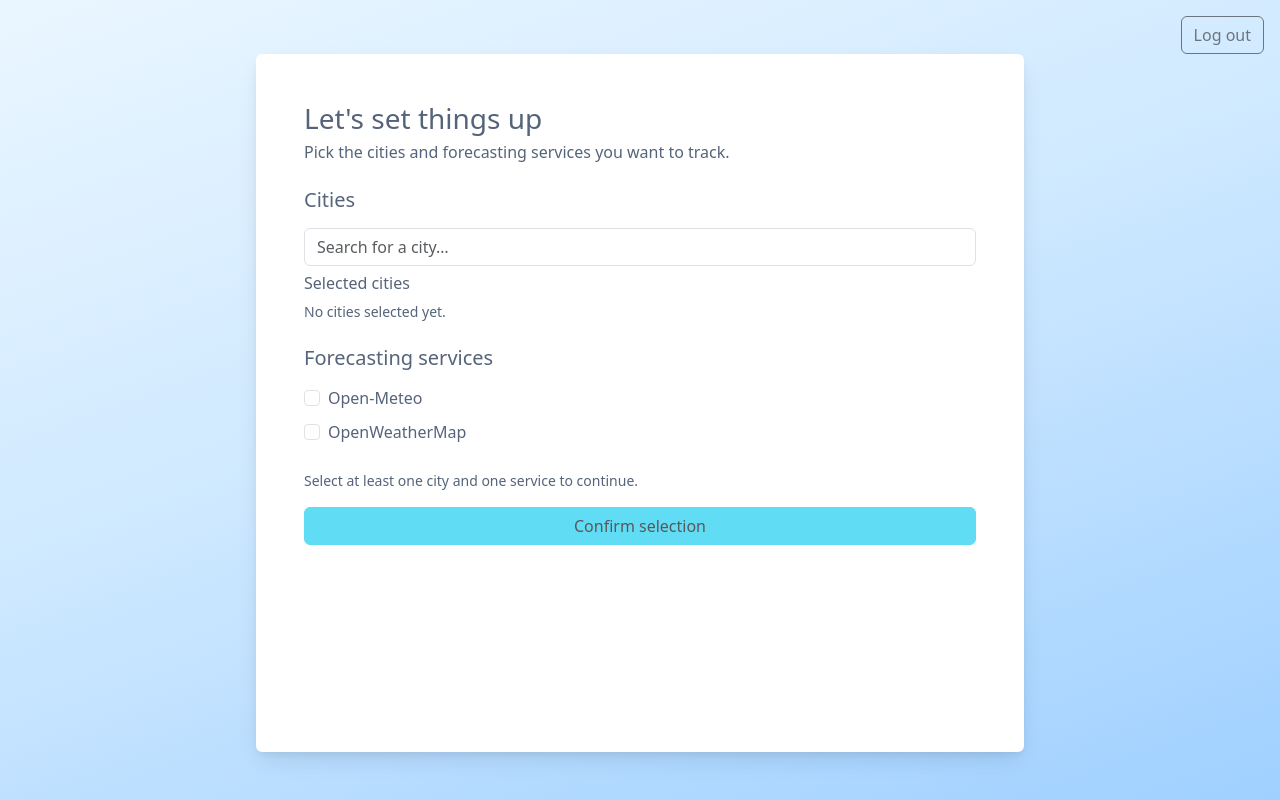
Test: SetupPage - City API down with no cities selected (services only) › enables confirm with only a service selected and saves it through saveServices
Check: the text "Open-Meteo" is shown, box [328,386,422,410]
Type "Athens" into the field labelled "Search for a city" at (640, 247), box [304,228,976,266]
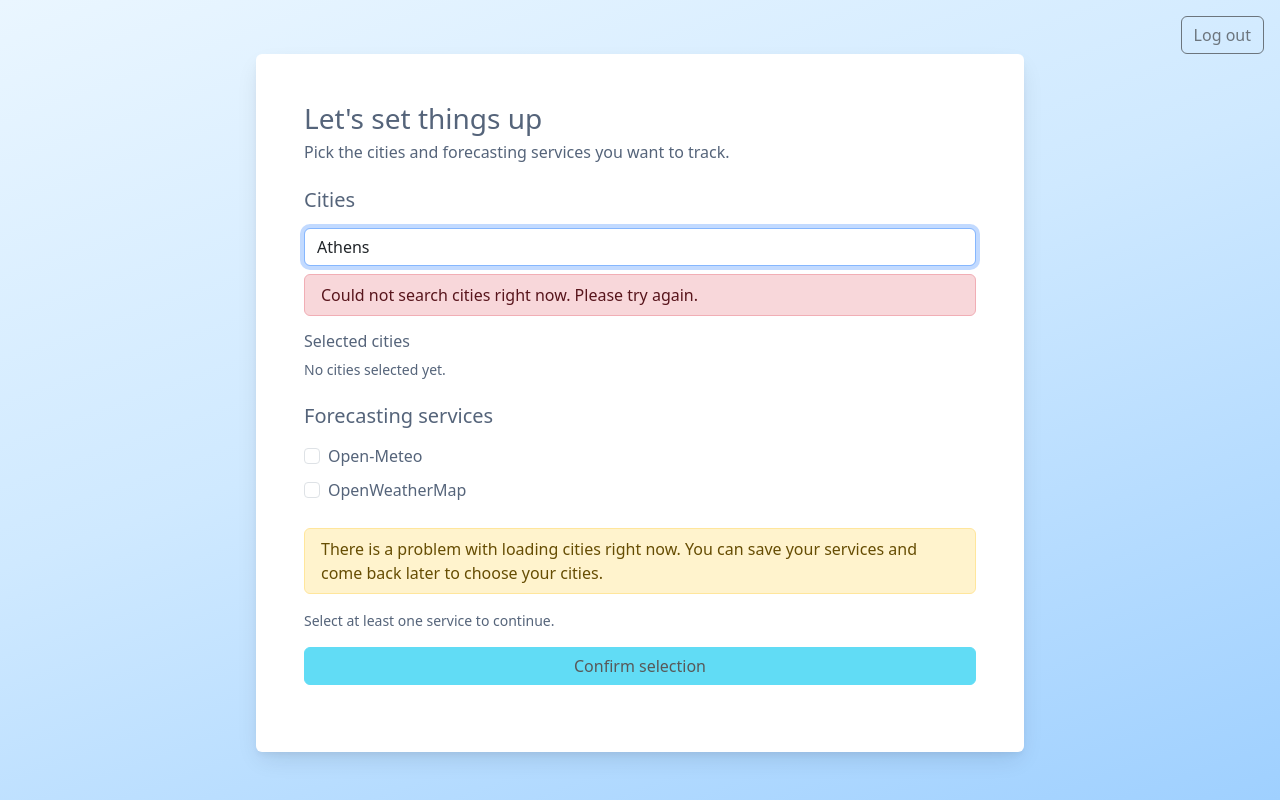
Check: the text "Could not search cities right now. Please try again." is shown, box [304,274,976,316]
Check: the text "Select at least one service to continue." is shown, box [304,611,554,630]
Check: the text "There is a problem with loading cities right now. You can save your services and come back later to choose your cities." is shown, box [321,538,917,584]
Click the checkbox labelled "Open-Meteo" at (312, 456), box [304,448,320,464]
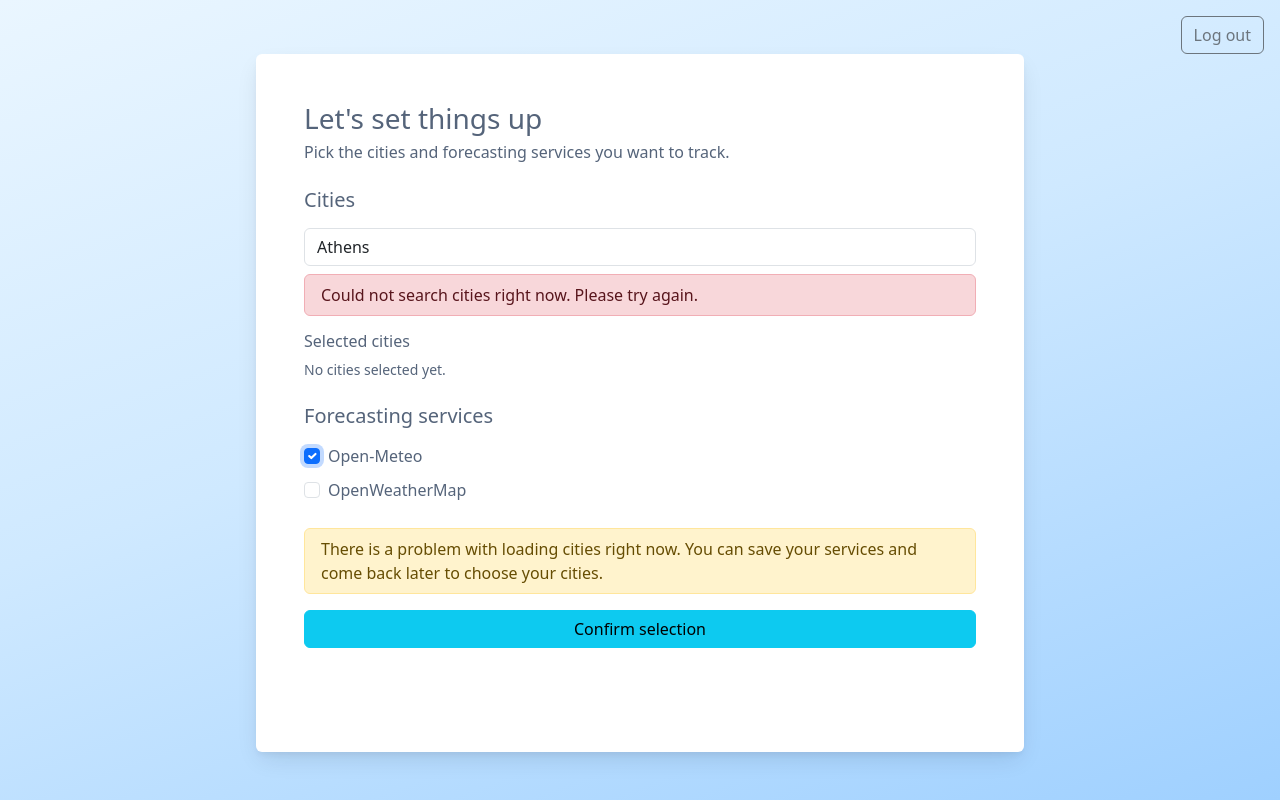
Check: the button "Confirm selection" is enabled
Click the button "Confirm selection" at (640, 629), box [304,610,976,648]
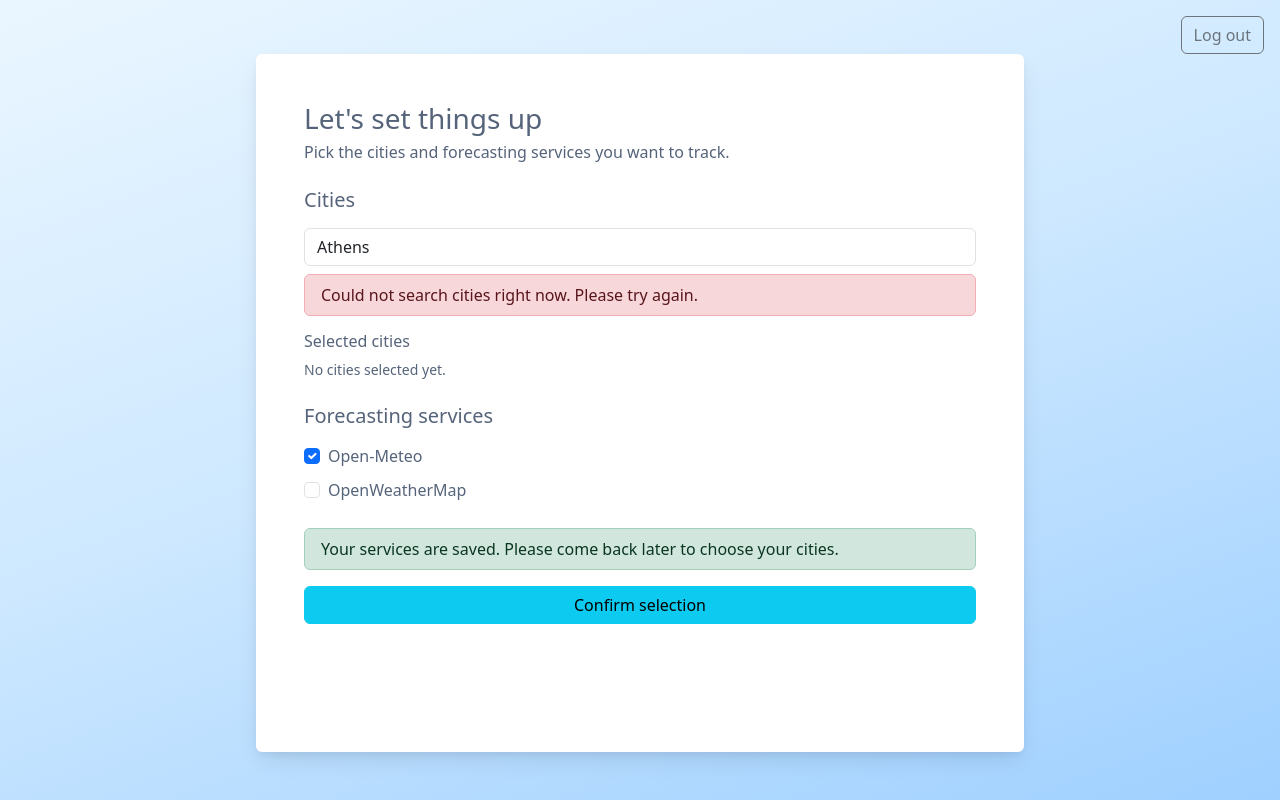
Check: the text "Your services are saved. Please come back later to choose your cities." is shown, box [304,528,976,570]
Check: the text "There is a problem with loading cities" is gone
